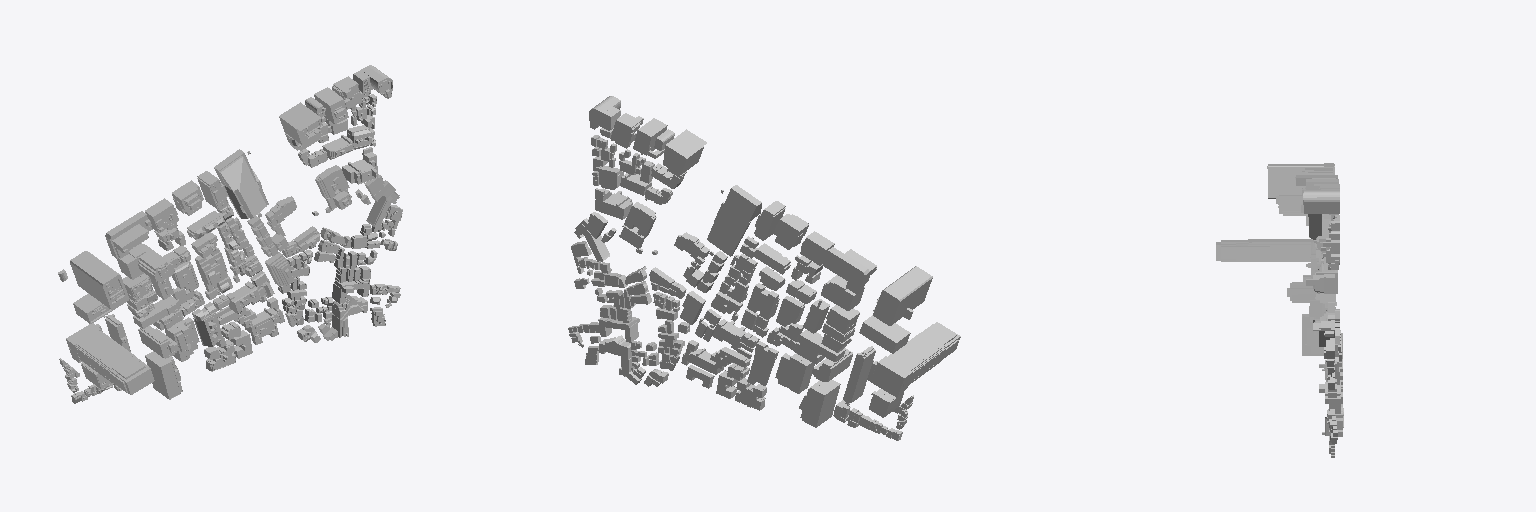
File: 533945083_bldg_6677.obj
3 renders of one model, left to right at view 1: azimuth 30°, elevation 25°; view 2: azimuth 150°, elevation 25°; view 3: azimuth 270°, elevation 25°, orthographic.
Bounding box in the file's own units: 578 × 432 × 186.